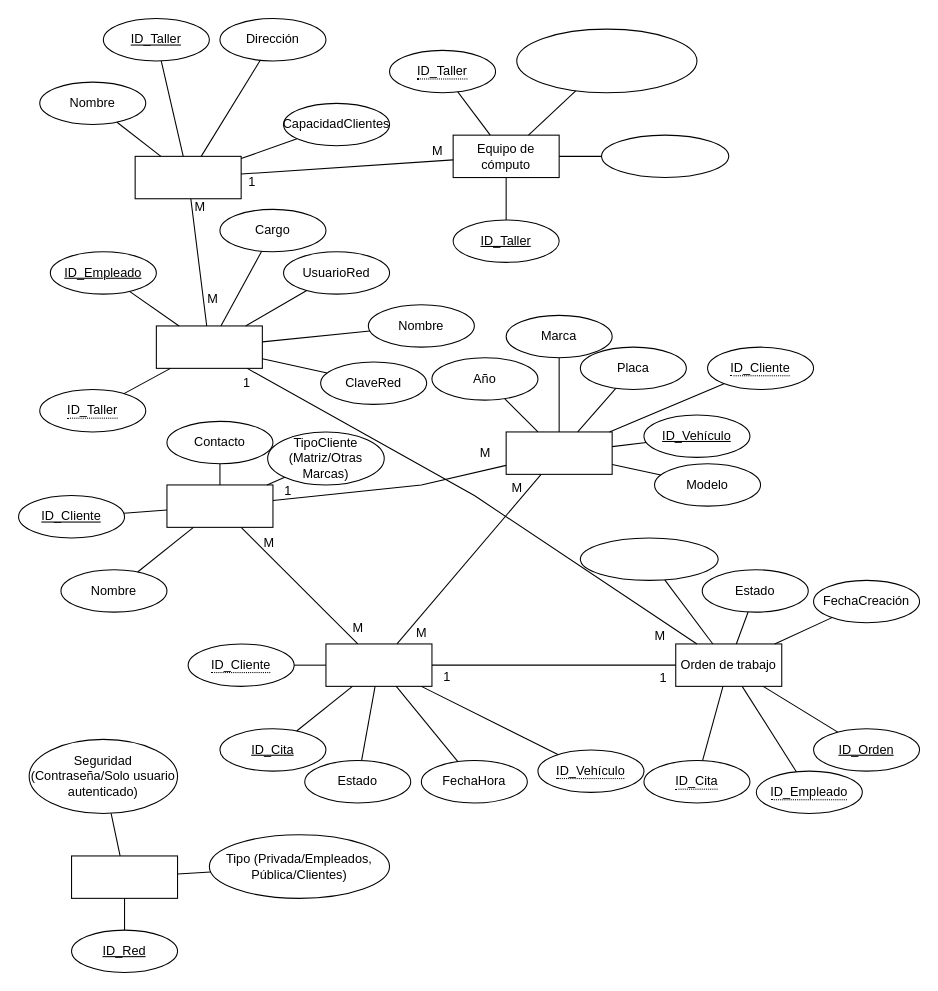
Some shapes in this 938 by 991 pixel diagram are drawn without their labels. Here are the shapes that lost their labels. From the top down, the centre of each, then its label:
(x=606, y=60): Ubicación (Recepción, cajas, diagnóstico, dirección)
(x=664, y=156): Tipo (GNU/Linux, Windows 11)
(x=187, y=177): Taller
(x=208, y=346): Empleado
(x=558, y=452): Vehículo
(x=219, y=505): Cliente
(x=648, y=558): DescripciónServicios
(x=378, y=664): Cita
(x=124, y=876): Red
